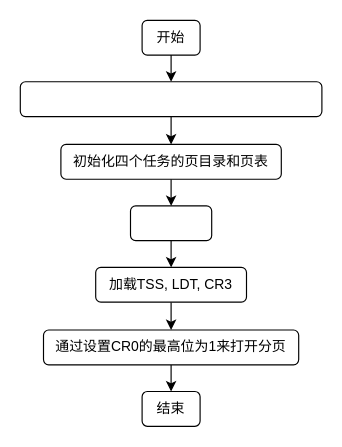
The diagram is 342 pixels wide and 447 high, and some of its shapes have lost their labels. Each missing label, with the centre of its shape:
打开中断: (x=170, y=223)
根据内存大小计算应初始化多 少 PDE 和页表: (x=170, y=99)
